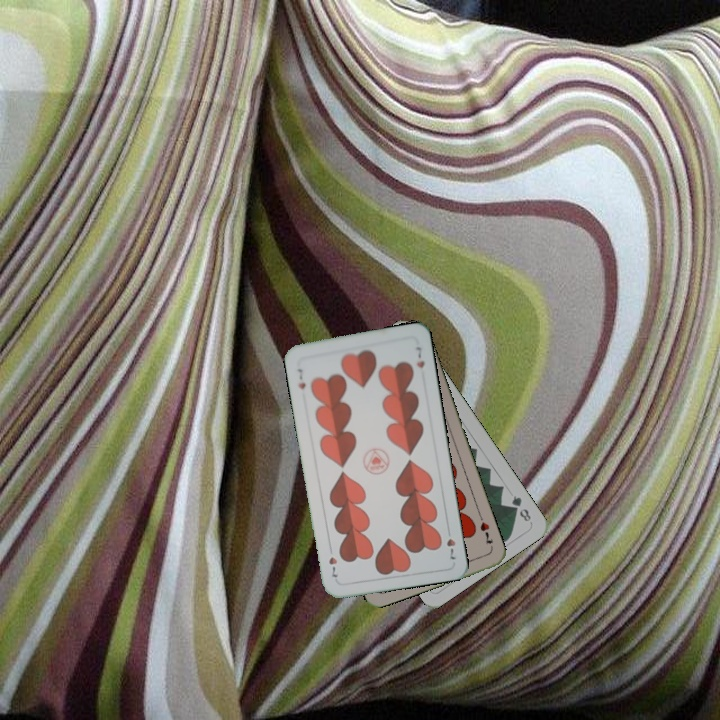G8: (507, 491, 534, 524)
H7: (442, 523, 458, 562), (476, 518, 495, 547), (293, 365, 308, 392)
